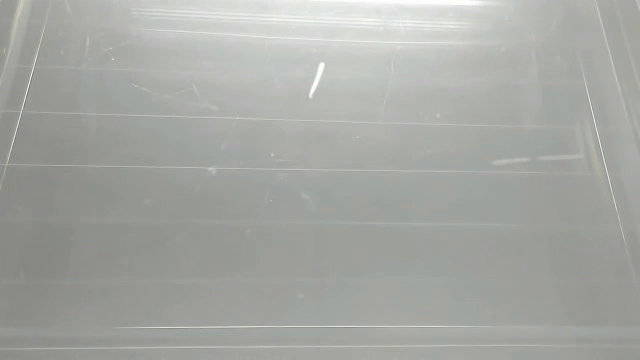alpha: (488, 150, 584, 171), (306, 61, 330, 99)
